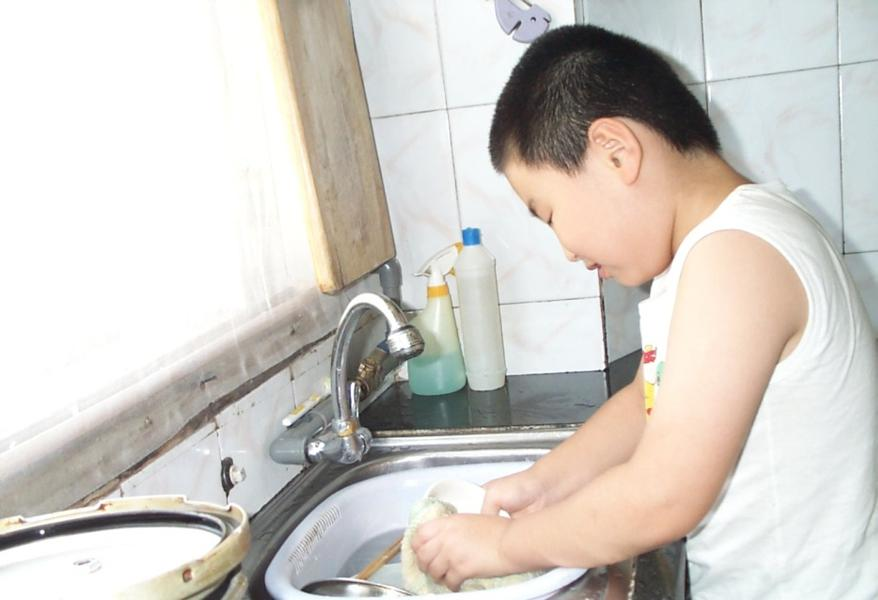person: (412, 27, 876, 600)
